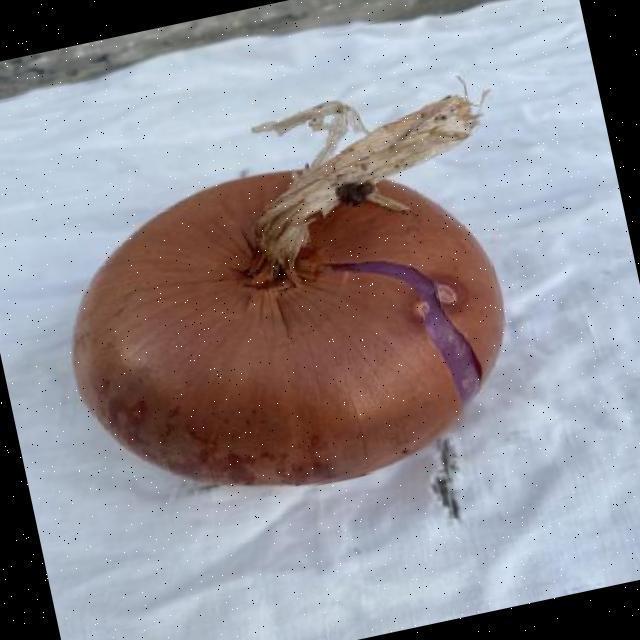Onion: (73, 95, 505, 485)
